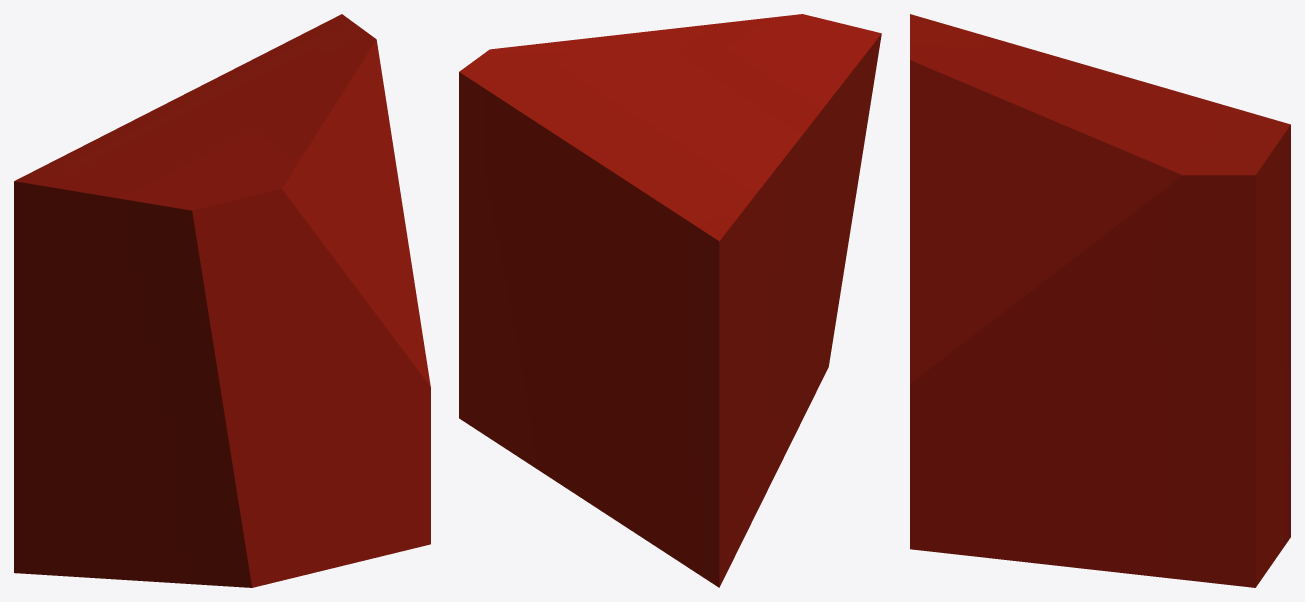
The model's file is explodestone3.fbx.
3 views of the same model, side by side, from view 1: azimuth 30°, elevation 25°; view 2: azimuth 150°, elevation 25°; view 3: azimuth 270°, elevation 25° (orthographic). The views are drawn at different scales.
Visible parts, largest first — view 1: Cube; view 2: Cube; view 3: Cube.
Boxes of the visible parts, <box> form: Cube: <box>14,14,430,587</box>; Cube: <box>459,14,881,587</box>; Cube: <box>910,14,1290,587</box>.
Size of the model in its own units: 1.68 by 2.53 by 1.67.
Materials: 1 (1 with a texture image).
